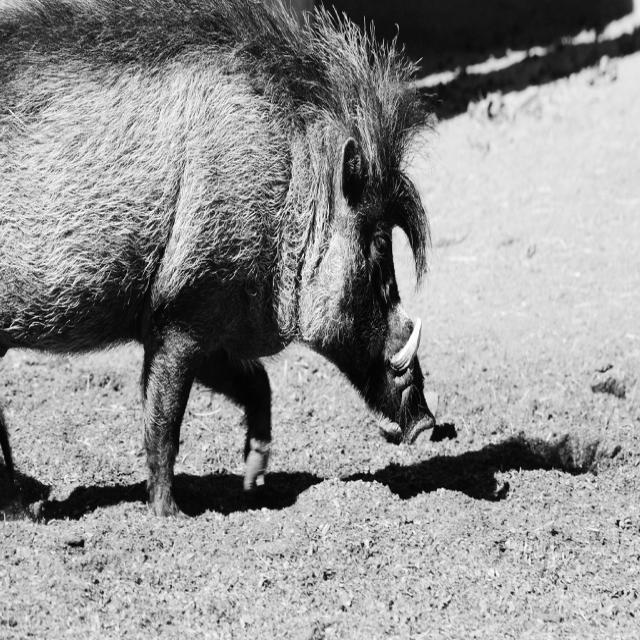Pig: (0, 0, 450, 517)
